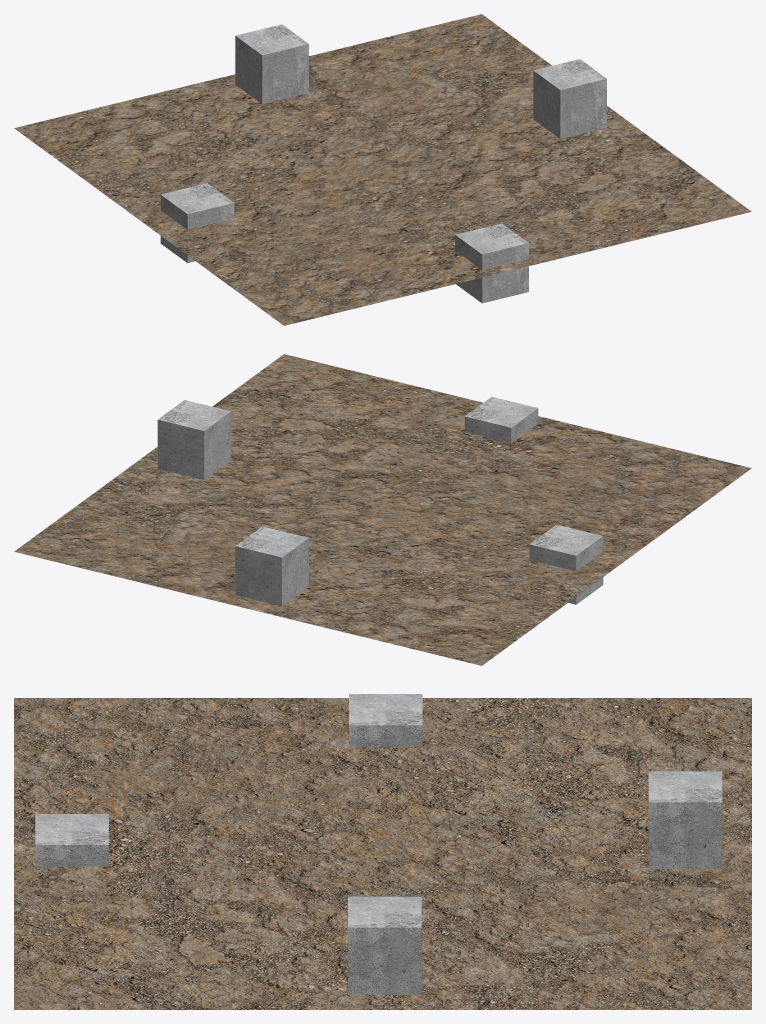
The model's file is Cell100.glb.
The picture shows the model from 3 angles, top to bottom: view 1: azimuth 30°, elevation 25°; view 2: azimuth 150°, elevation 25°; view 3: azimuth 270°, elevation 25°; orthographic projection. The views are drawn at different scales.
Visible parts, largest first — view 1: Plane, Cube, Cube.001, Cube.002, Cube.003; view 2: Plane, Cube.001, Cube, Cube.003, Cube.002; view 3: Plane, Cube, Cube.001, Cube.002, Cube.003.
Boxes of the visible parts, x1,y1,x2,y2 form: Plane: (14,14,751,325); Cube: (235,24,308,104); Cube.001: (533,59,606,138); Cube.002: (455,223,528,303); Cube.003: (160,183,234,263); Plane: (14,354,751,665); Cube.001: (157,400,231,479); Cube: (235,526,308,606); Cube.003: (529,524,603,604); Cube.002: (464,396,538,443); Plane: (14,698,751,1009); Cube: (648,771,722,869); Cube.001: (348,896,421,994); Cube.002: (35,814,108,866); Cube.003: (349,694,422,746).
Bounding box in the file's own units: 100 × 16.85 × 100.
Materials: 2 (2 with a texture image).
